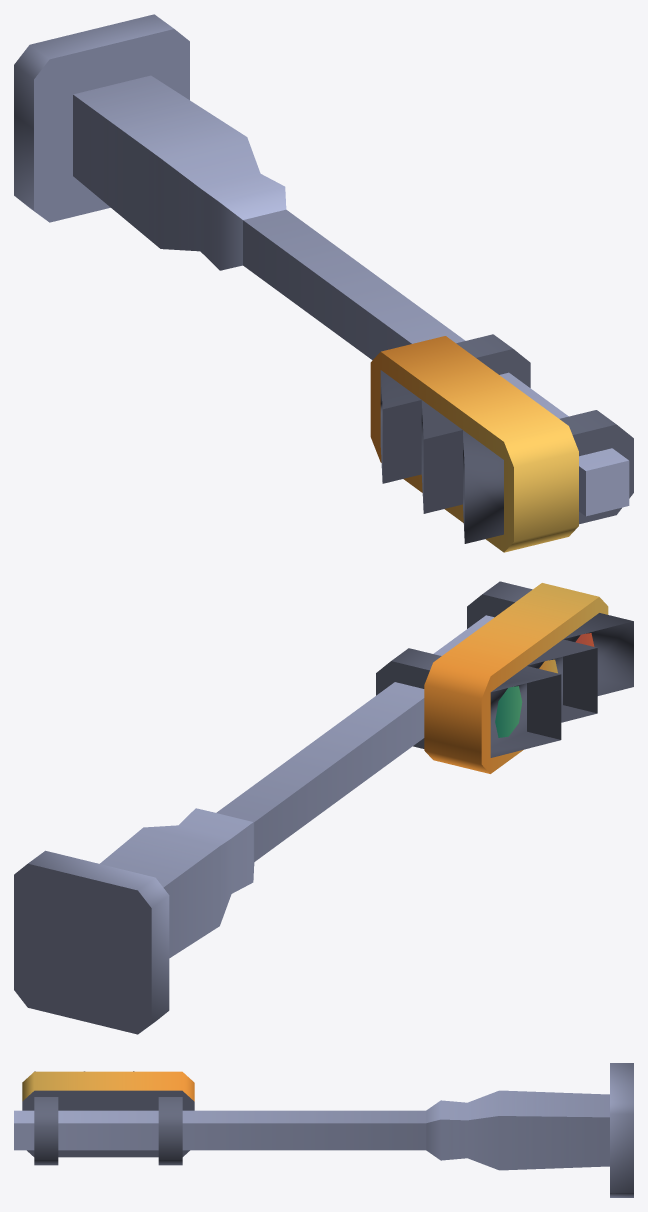
File: prop_10_traffic-light.glb
3 views of the same model, one above another, from view 1: azimuth 30°, elevation 25°; view 2: azimuth 150°, elevation 25°; view 3: azimuth 270°, elevation 25° (orthographic). The views are drawn at different scales.
Visible parts, largest first — view 1: prop_10_traffic-light; view 2: prop_10_traffic-light; view 3: prop_10_traffic-light.
Boxes of the visible parts, <box> form: prop_10_traffic-light: <box>14,14,633,552</box>; prop_10_traffic-light: <box>14,581,633,1034</box>; prop_10_traffic-light: <box>14,1063,633,1197</box>.
Bounding box in the file's own units: 1.18 × 0.9 × 5.15.
Materials: 1 (1 with a texture image).
